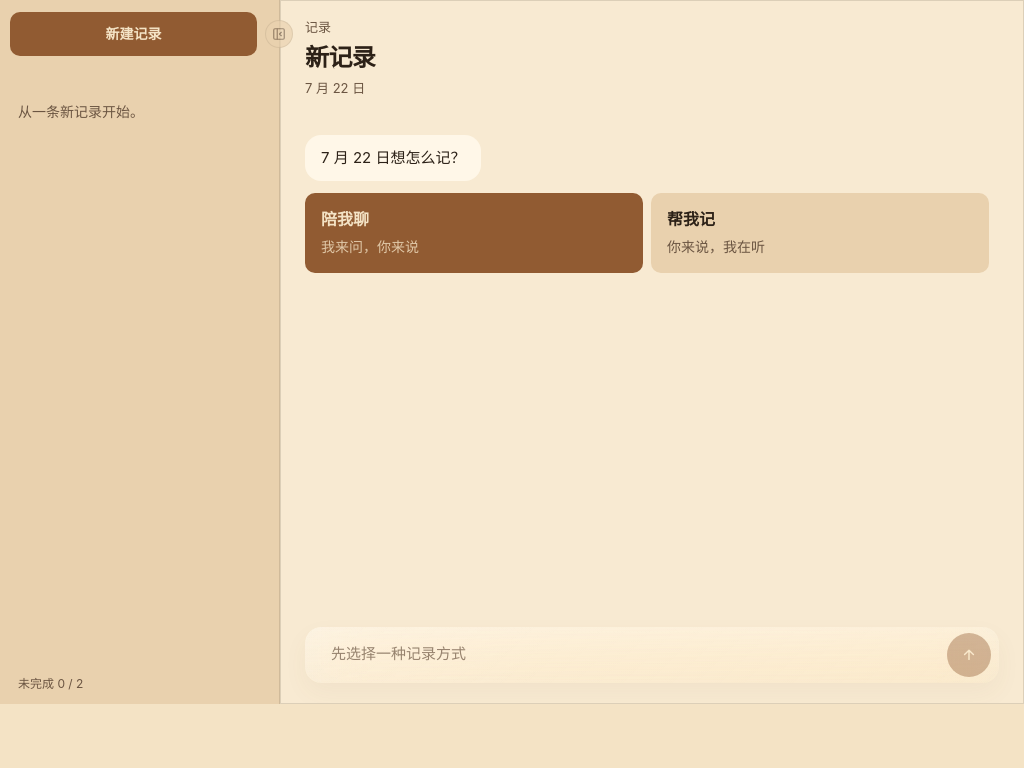
Test case: EventCenteredInterviewWorkspace › creates a selected record once and enters the conversation directly
The image size is (1024, 768).
Click the button "帮我记 你来说，我在听" at coordinates (691, 219), box [651,193,989,273]
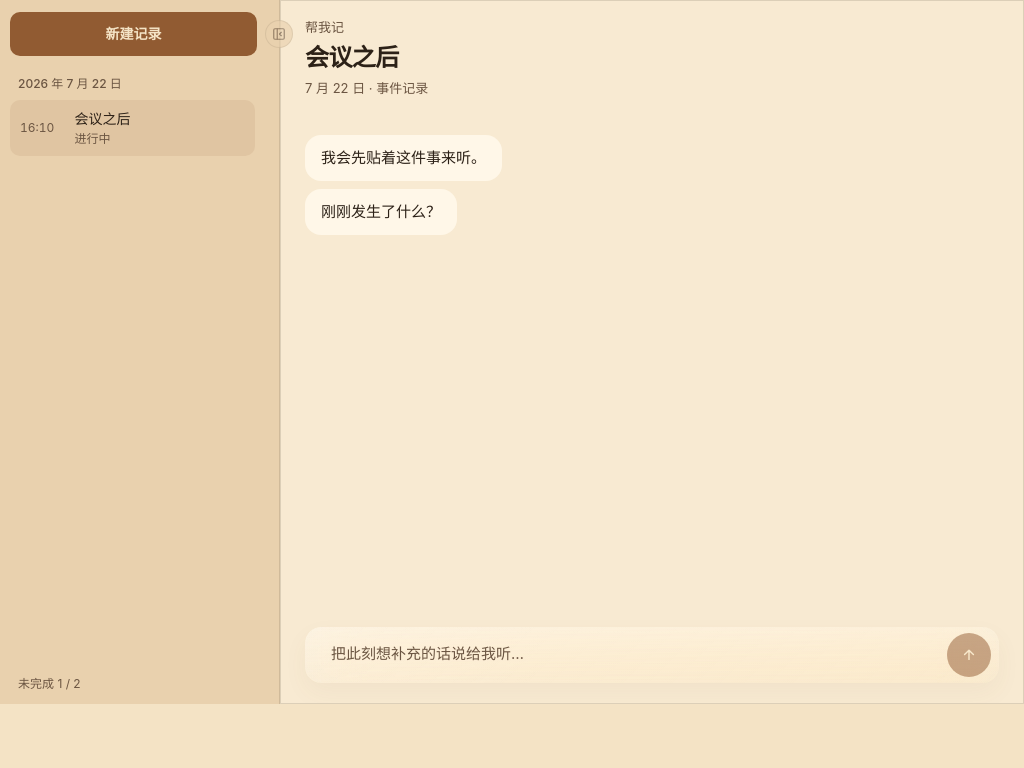
expect the element with test id "event-centered-start-workspace" is gone: met
expect the text box named "输入当前事件" is enabled: met, box [315,633,989,677]
expect the text "帮我记" is shown: met, box [305,19,344,35]
